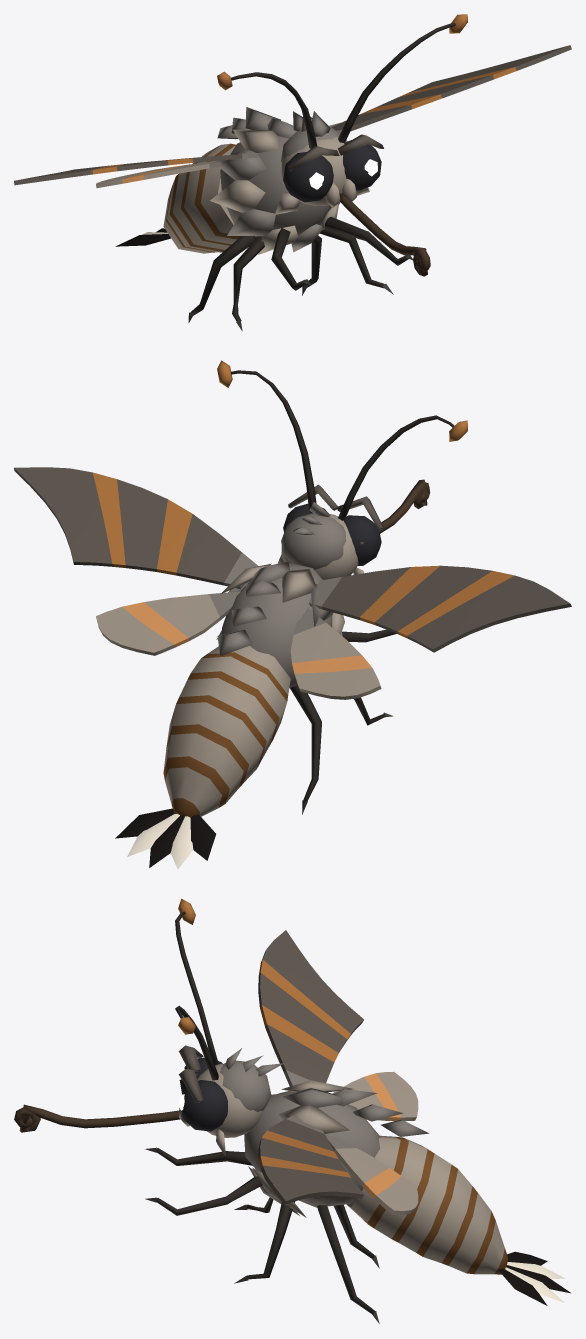
File: moth-hover.glb
The picture shows the model from 3 angles, top to bottom: view 1: azimuth 30°, elevation 25°; view 2: azimuth 150°, elevation 25°; view 3: azimuth 270°, elevation 25°; orthographic projection.
Visible parts, largest first — view 1: body, pulse_abdomen, turn_head, beat_wing_0, beat_wing_1, blink_eye_r, sway_feeler_l, blink_eye_l, sway_tongue, sway_feeler_r; view 2: beat_wing_0, pulse_abdomen, beat_wing_1, body, turn_head, sway_feeler_l, sway_feeler_r, blink_eye_r, sway_tongue; view 3: pulse_abdomen, body, beat_wing_1, beat_wing_0, turn_head, sway_tongue, blink_eye_l, sway_feeler_r, sway_feeler_l.
Part boxes in pixels (x1,y1,x2,y2): body: [188, 107, 412, 331]; pulse_abdomen: [115, 143, 257, 253]; turn_head: [274, 111, 383, 214]; beat_wing_0: [329, 45, 571, 133]; beat_wing_1: [14, 153, 258, 187]; blink_eye_r: [283, 152, 333, 202]; sway_feeler_l: [338, 14, 467, 142]; blink_eye_l: [343, 140, 381, 190]; sway_tongue: [339, 193, 430, 276]; sway_feeler_r: [217, 71, 317, 148]; beat_wing_0: [14, 467, 257, 655]; pulse_abdomen: [115, 645, 290, 869]; beat_wing_1: [290, 565, 571, 699]; body: [216, 561, 396, 814]; turn_head: [277, 484, 383, 579]; sway_feeler_l: [217, 360, 316, 512]; sway_feeler_r: [338, 415, 467, 520]; blink_eye_r: [344, 515, 381, 565]; sway_tongue: [378, 479, 430, 533]; pulse_abdomen: [346, 1135, 570, 1305]; body: [145, 1080, 429, 1323]; beat_wing_1: [258, 930, 418, 1121]; beat_wing_0: [258, 1115, 418, 1214]; turn_head: [178, 1045, 283, 1156]; sway_tongue: [14, 1104, 179, 1132]; blink_eye_l: [178, 1080, 227, 1131]; sway_feeler_r: [175, 898, 218, 1064]; sway_feeler_l: [175, 1005, 218, 1080].
Size of the model in its own units: 0.9817 by 0.5692 by 0.851.
